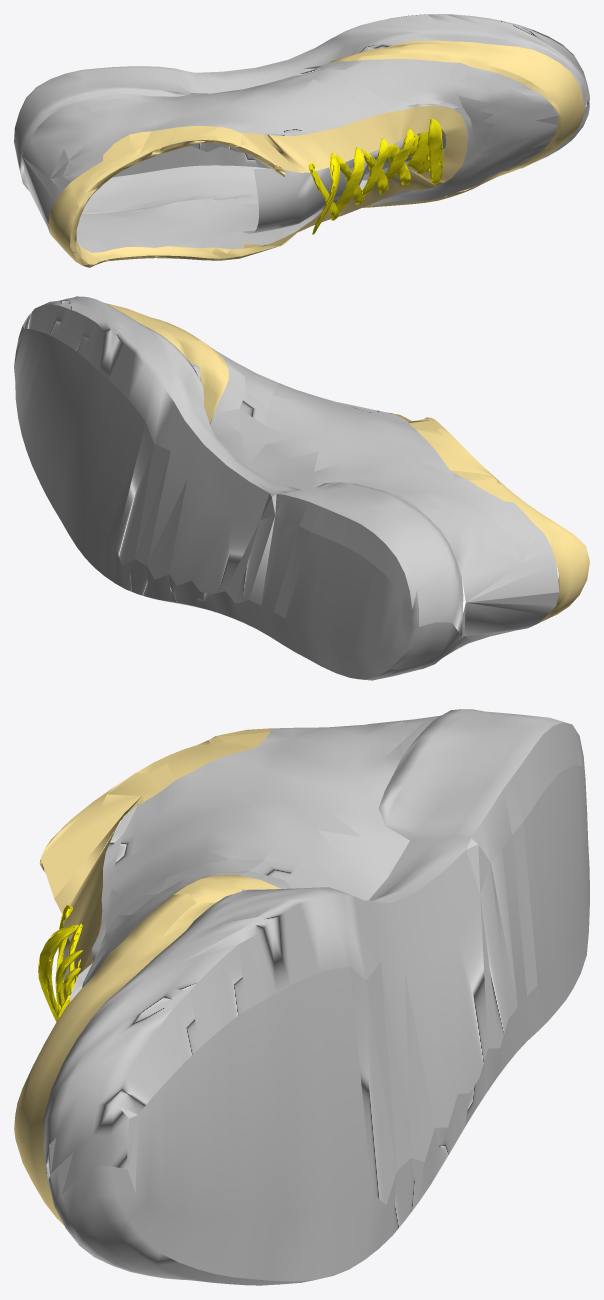
3 renders of one model, top to bottom at view 1: azimuth 30°, elevation 25°; view 2: azimuth 150°, elevation 25°; view 3: azimuth 270°, elevation 25°, orthographic. The views are drawn at different scales.
Visible parts, largest first — view 1: 02_-_Default, 07_-_Default, 01_-_Default, 03_-_Default; view 2: 07_-_Default, 02_-_Default, 01_-_Default; view 3: 07_-_Default, 02_-_Default, 01_-_Default, 03_-_Default.
Part boxes in pixels (x1,y1,x2,y2): 02_-_Default: (22,59,558,252); 07_-_Default: (14,14,589,233); 01_-_Default: (48,40,584,267); 03_-_Default: (308,118,443,234); 07_-_Default: (14,296,463,680); 02_-_Default: (210,348,559,657); 01_-_Default: (105,303,589,622); 07_-_Default: (43,709,589,1285); 02_-_Default: (70,715,440,1001); 01_-_Default: (14,728,280,1224); 03_-_Default: (38,905,83,1021).
Size of the model in its own units: 324 by 117 by 164.
